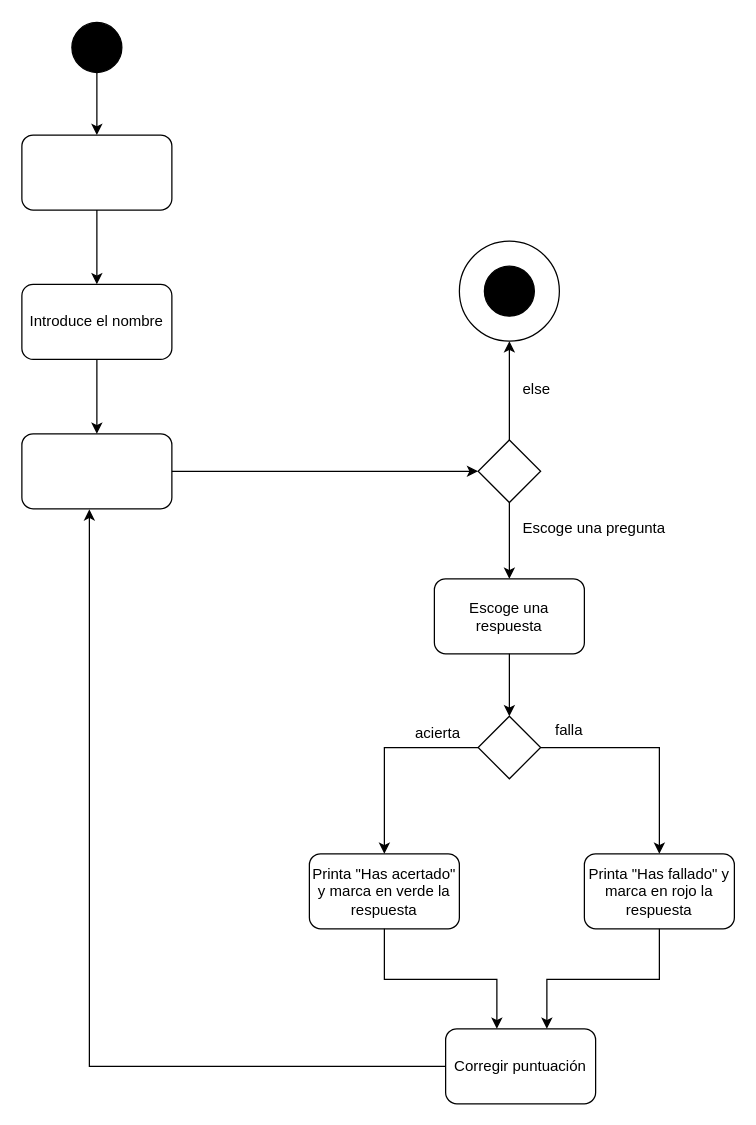
The diagram is 756 pixels wide and 1125 high, and some of its shapes have lost their labels. Here are the shapes that lost their labels. From the top down, the centre of each, then its label:
point (96, 172): Printa "Introduce tu nombre"
point (96, 470): Va al panel de escoger preguntas
